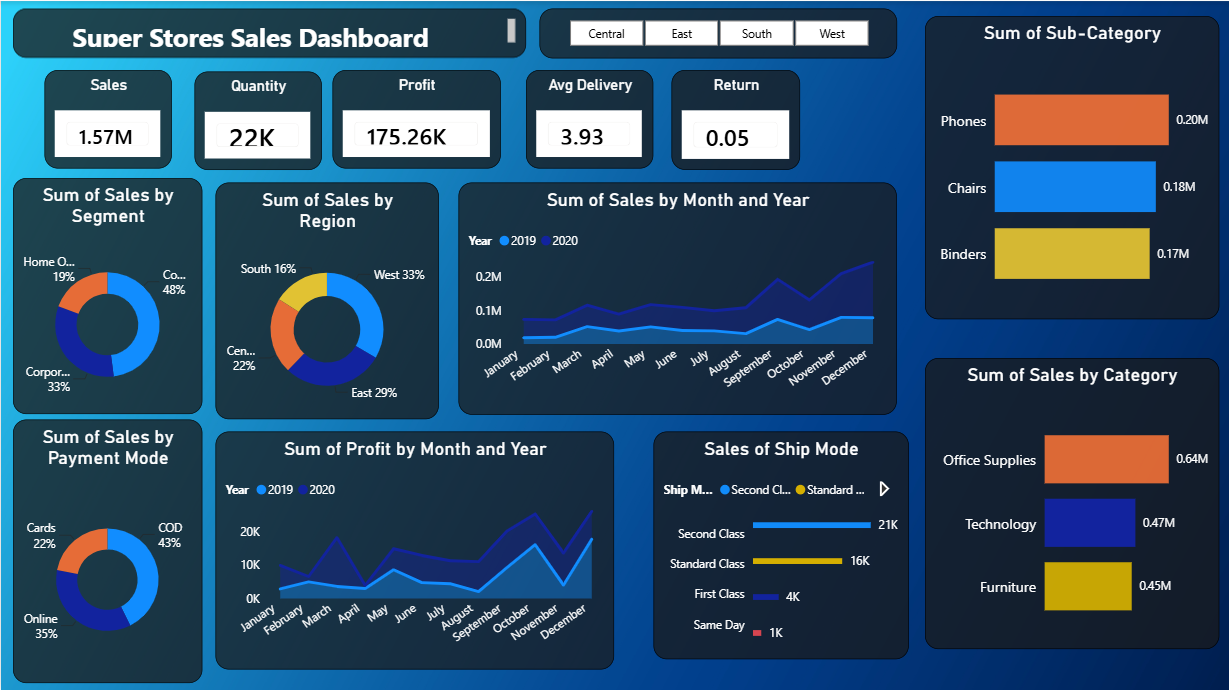

This screenshot's page, from the dashboard's own definition file:
{"tool":"powerbi","page":{"name":"Page 1","canvas":[1280,720],"ordinal":0},"visuals":[{"type":"clusteredBarChart","fields":{"Category":["Sheet1.Category"],"Y":["Sum(Sheet1.Sales)"]},"box":[962.8,372,306.3,303.2],"z":0},{"type":"clusteredBarChart","title":"Sum of Sub-Category","fields":{"Category":["Sheet1.Sub-Category"],"Y":["Sum(Sheet1.Sales)"]},"box":[962.8,15.6,306.3,315.7],"z":1000},{"type":"clusteredBarChart","title":"Sales of Ship Mode","fields":{"Y":["Sum(Sheet1.Sales)"],"Series":["Sheet1.Ship Mode"],"Category":["Sheet1.Ship Mode"]},"box":[679.9,448.6,265.7,237.6],"z":2000},{"type":"stackedAreaChart","fields":{"Category":["Sheet1.Order Date.Variation.Date Hierarchy.Month","Sheet1.Order Date.Variation.Date Hierarchy.Day"],"Series":["Sheet1.Order Date.Variation.Date Hierarchy.Year"],"Y":["Sum(Sheet1.Sales)"]},"box":[476.7,189.1,456.4,242.3],"z":3000},{"type":"stackedAreaChart","fields":{"Category":["Sheet1.Order Date.Variation.Date Hierarchy.Month","Sheet1.Order Date.Variation.Date Hierarchy.Day"],"Series":["Sheet1.Order Date.Variation.Date Hierarchy.Year"],"Y":["Sum(Sheet1.Profit)"]},"box":[224.2,448.4,415.3,247.9],"z":4000},{"type":"donutChart","fields":{"Category":["Sheet1.Segment"],"Y":["Sum(Sheet1.Sales)"]},"box":[12.6,184.7,197.4,246.3],"z":5000},{"type":"donutChart","fields":{"Category":["Sheet1.Payment Mode"],"Y":["Sum(Sheet1.Sales)"]},"box":[12.6,435.8,197.4,274.7],"z":6000},{"type":"slicer","fields":{"Values":["Sheet1.Region"]},"box":[560.5,7.9,372.6,52.1],"z":7000},{"type":"textbox","box":[12.6,7.9,533.7,52.1],"z":8000},{"type":"cardVisual","title":"Sales","fields":{"Data":["Sum(Sheet1.Sales)"]},"box":[45.8,72.6,132.6,102.6],"z":9000},{"type":"cardVisual","title":"Quantity","fields":{"Data":["Sum(Sheet1.Quantity)"]},"box":[202.1,74.2,132.6,102.6],"z":10000},{"type":"cardVisual","title":"Profit","fields":{"Data":["Sum(Sheet1.Profit)"]},"box":[345.8,72.6,175.3,102.6],"z":11000},{"type":"cardVisual","title":"Avg Delivery","fields":{"Data":["Avg(Sheet1.AvgDelivery)"]},"box":[546.3,72.6,132.6,102.6],"z":12000},{"type":"pieChart","fields":{"Category":["Sheet1.Region"],"Y":["Sum(Sheet1.Sales)"]},"box":[223.5,189.1,232.9,247],"z":13000},{"type":"cardVisual","title":"Return","fields":{"Data":["Avg(Sheet1.Returns)"]},"box":[697.9,72.6,134.2,104.2],"z":14000}]}

Visuals, with their boxes in screenshot pixels (x1, y1, x2, y2), scaled from the page's 1280x720 canvas onto the 1229x690 screenshot:
clusteredBarChart - Sheet1.Category x Sum(Sheet1.Sales): [left=924, top=356, right=1219, bottom=647]
"Sum of Sub-Category" clusteredBarChart: [left=924, top=15, right=1219, bottom=317]
"Sales of Ship Mode" clusteredBarChart: [left=653, top=430, right=908, bottom=658]
stackedAreaChart - Sheet1.Order Date.Variation.Date Hierarchy.Month x Sheet1.Order Date.Variation.Date Hierarchy.Day: [left=458, top=181, right=896, bottom=413]
stackedAreaChart - Sheet1.Order Date.Variation.Date Hierarchy.Month x Sheet1.Order Date.Variation.Date Hierarchy.Day: [left=215, top=430, right=614, bottom=667]
donutChart - Sheet1.Segment x Sum(Sheet1.Sales): [left=12, top=177, right=202, bottom=413]
donutChart - Sheet1.Payment Mode x Sum(Sheet1.Sales): [left=12, top=418, right=202, bottom=681]
slicer - Sheet1.Region: [left=538, top=8, right=896, bottom=58]
textbox: [left=12, top=8, right=525, bottom=58]
"Sales" cardVisual: [left=44, top=70, right=171, bottom=168]
"Quantity" cardVisual: [left=194, top=71, right=321, bottom=169]
"Profit" cardVisual: [left=332, top=70, right=500, bottom=168]
"Avg Delivery" cardVisual: [left=525, top=70, right=652, bottom=168]
pieChart - Sheet1.Region x Sum(Sheet1.Sales): [left=215, top=181, right=438, bottom=418]
"Return" cardVisual: [left=670, top=70, right=799, bottom=169]
